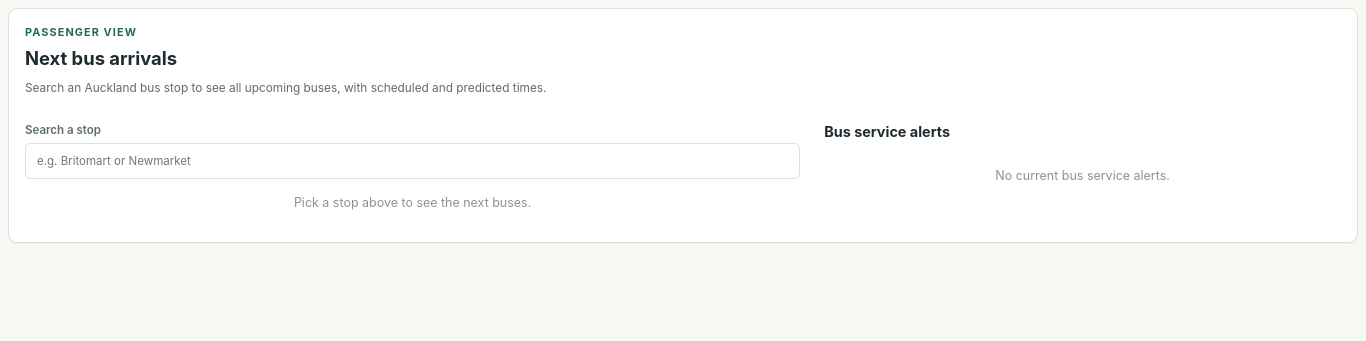
Passenger board › explains when there are no upcoming buses
This screenshot has width=1366, height=341.
In the search field with placeholder "e.g. Britomart or Newmarket": (413, 161) [25,143,800,179], type "Brit"
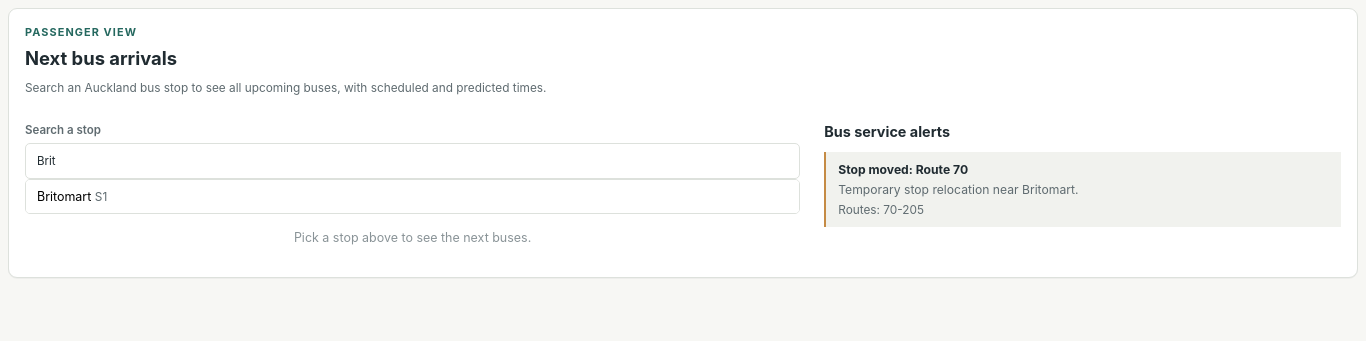
Click the button "Britomart S1": (64, 196) [26,180,799,213]
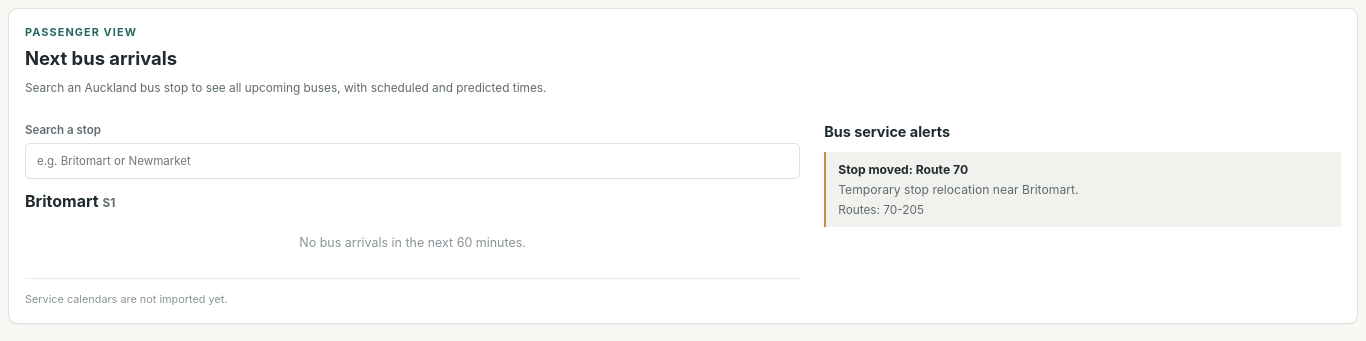
Expected: the text "No bus arrivals in the next 60 minutes." is shown, [299,235,526,250]
